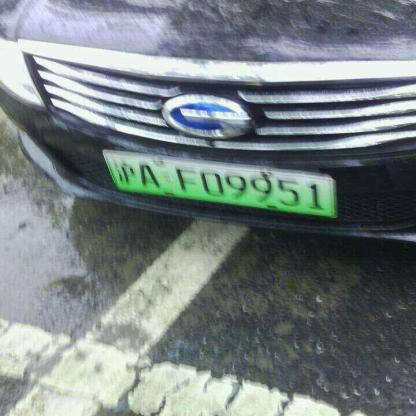lp: (102, 151, 332, 218)
